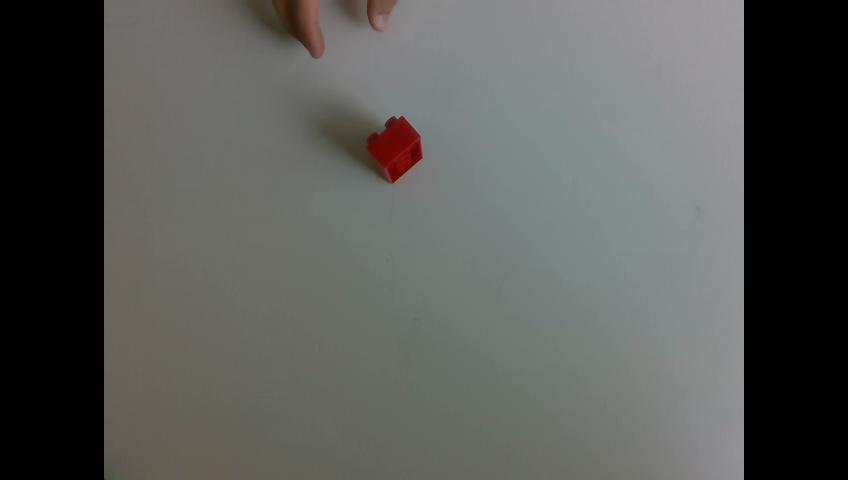4x2_red: (367, 117, 423, 182)
